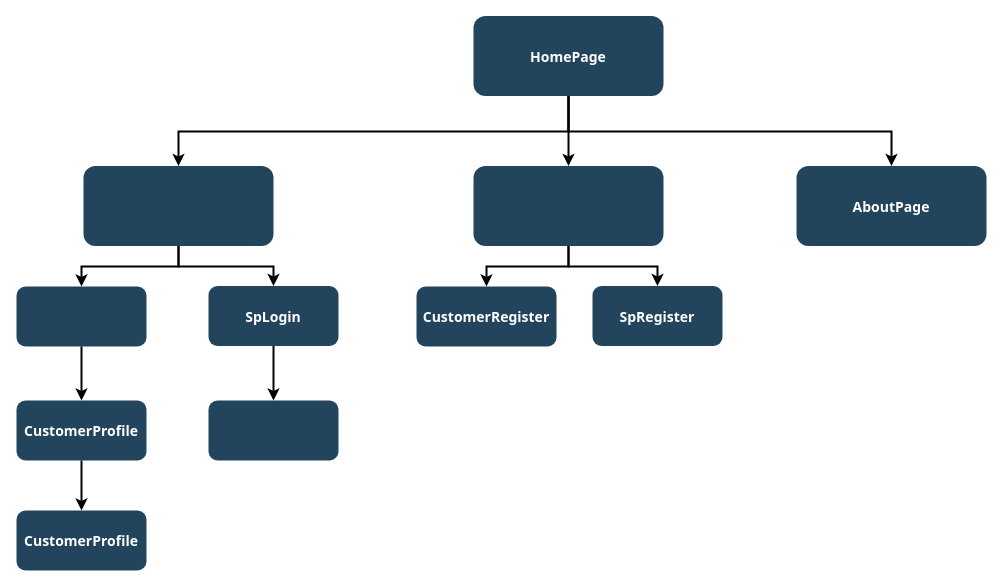
The diagram is 1003 pixels wide and 587 high, and some of its shapes have lost their labels. Here are the shapes that lost their labels. From the top down, the centre of each, then its label:
[178,206]: LoginPage
[568,206]: RegisterPage
[81,316]: CustomerLogin
[273,430]: SpProfile
